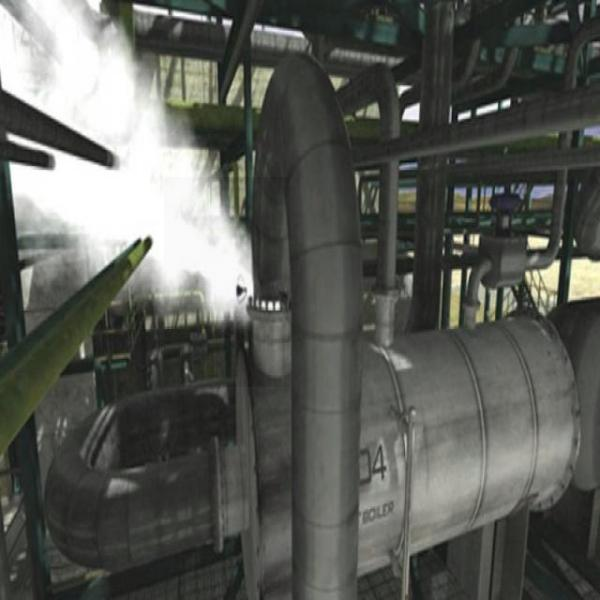gas: (164, 177, 290, 387)
